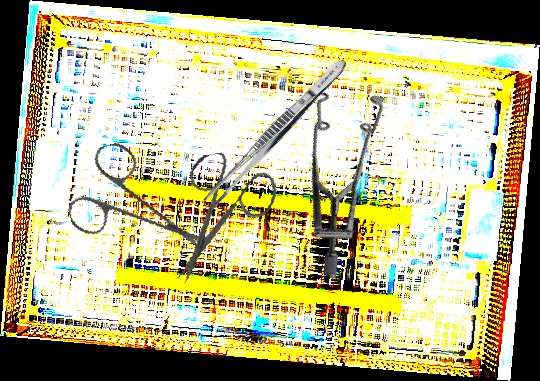Dressing Forceps: (202, 54, 351, 212)
Iris Scissors: (54, 126, 209, 282), (155, 143, 291, 285)
Speculum: (229, 61, 443, 281)
